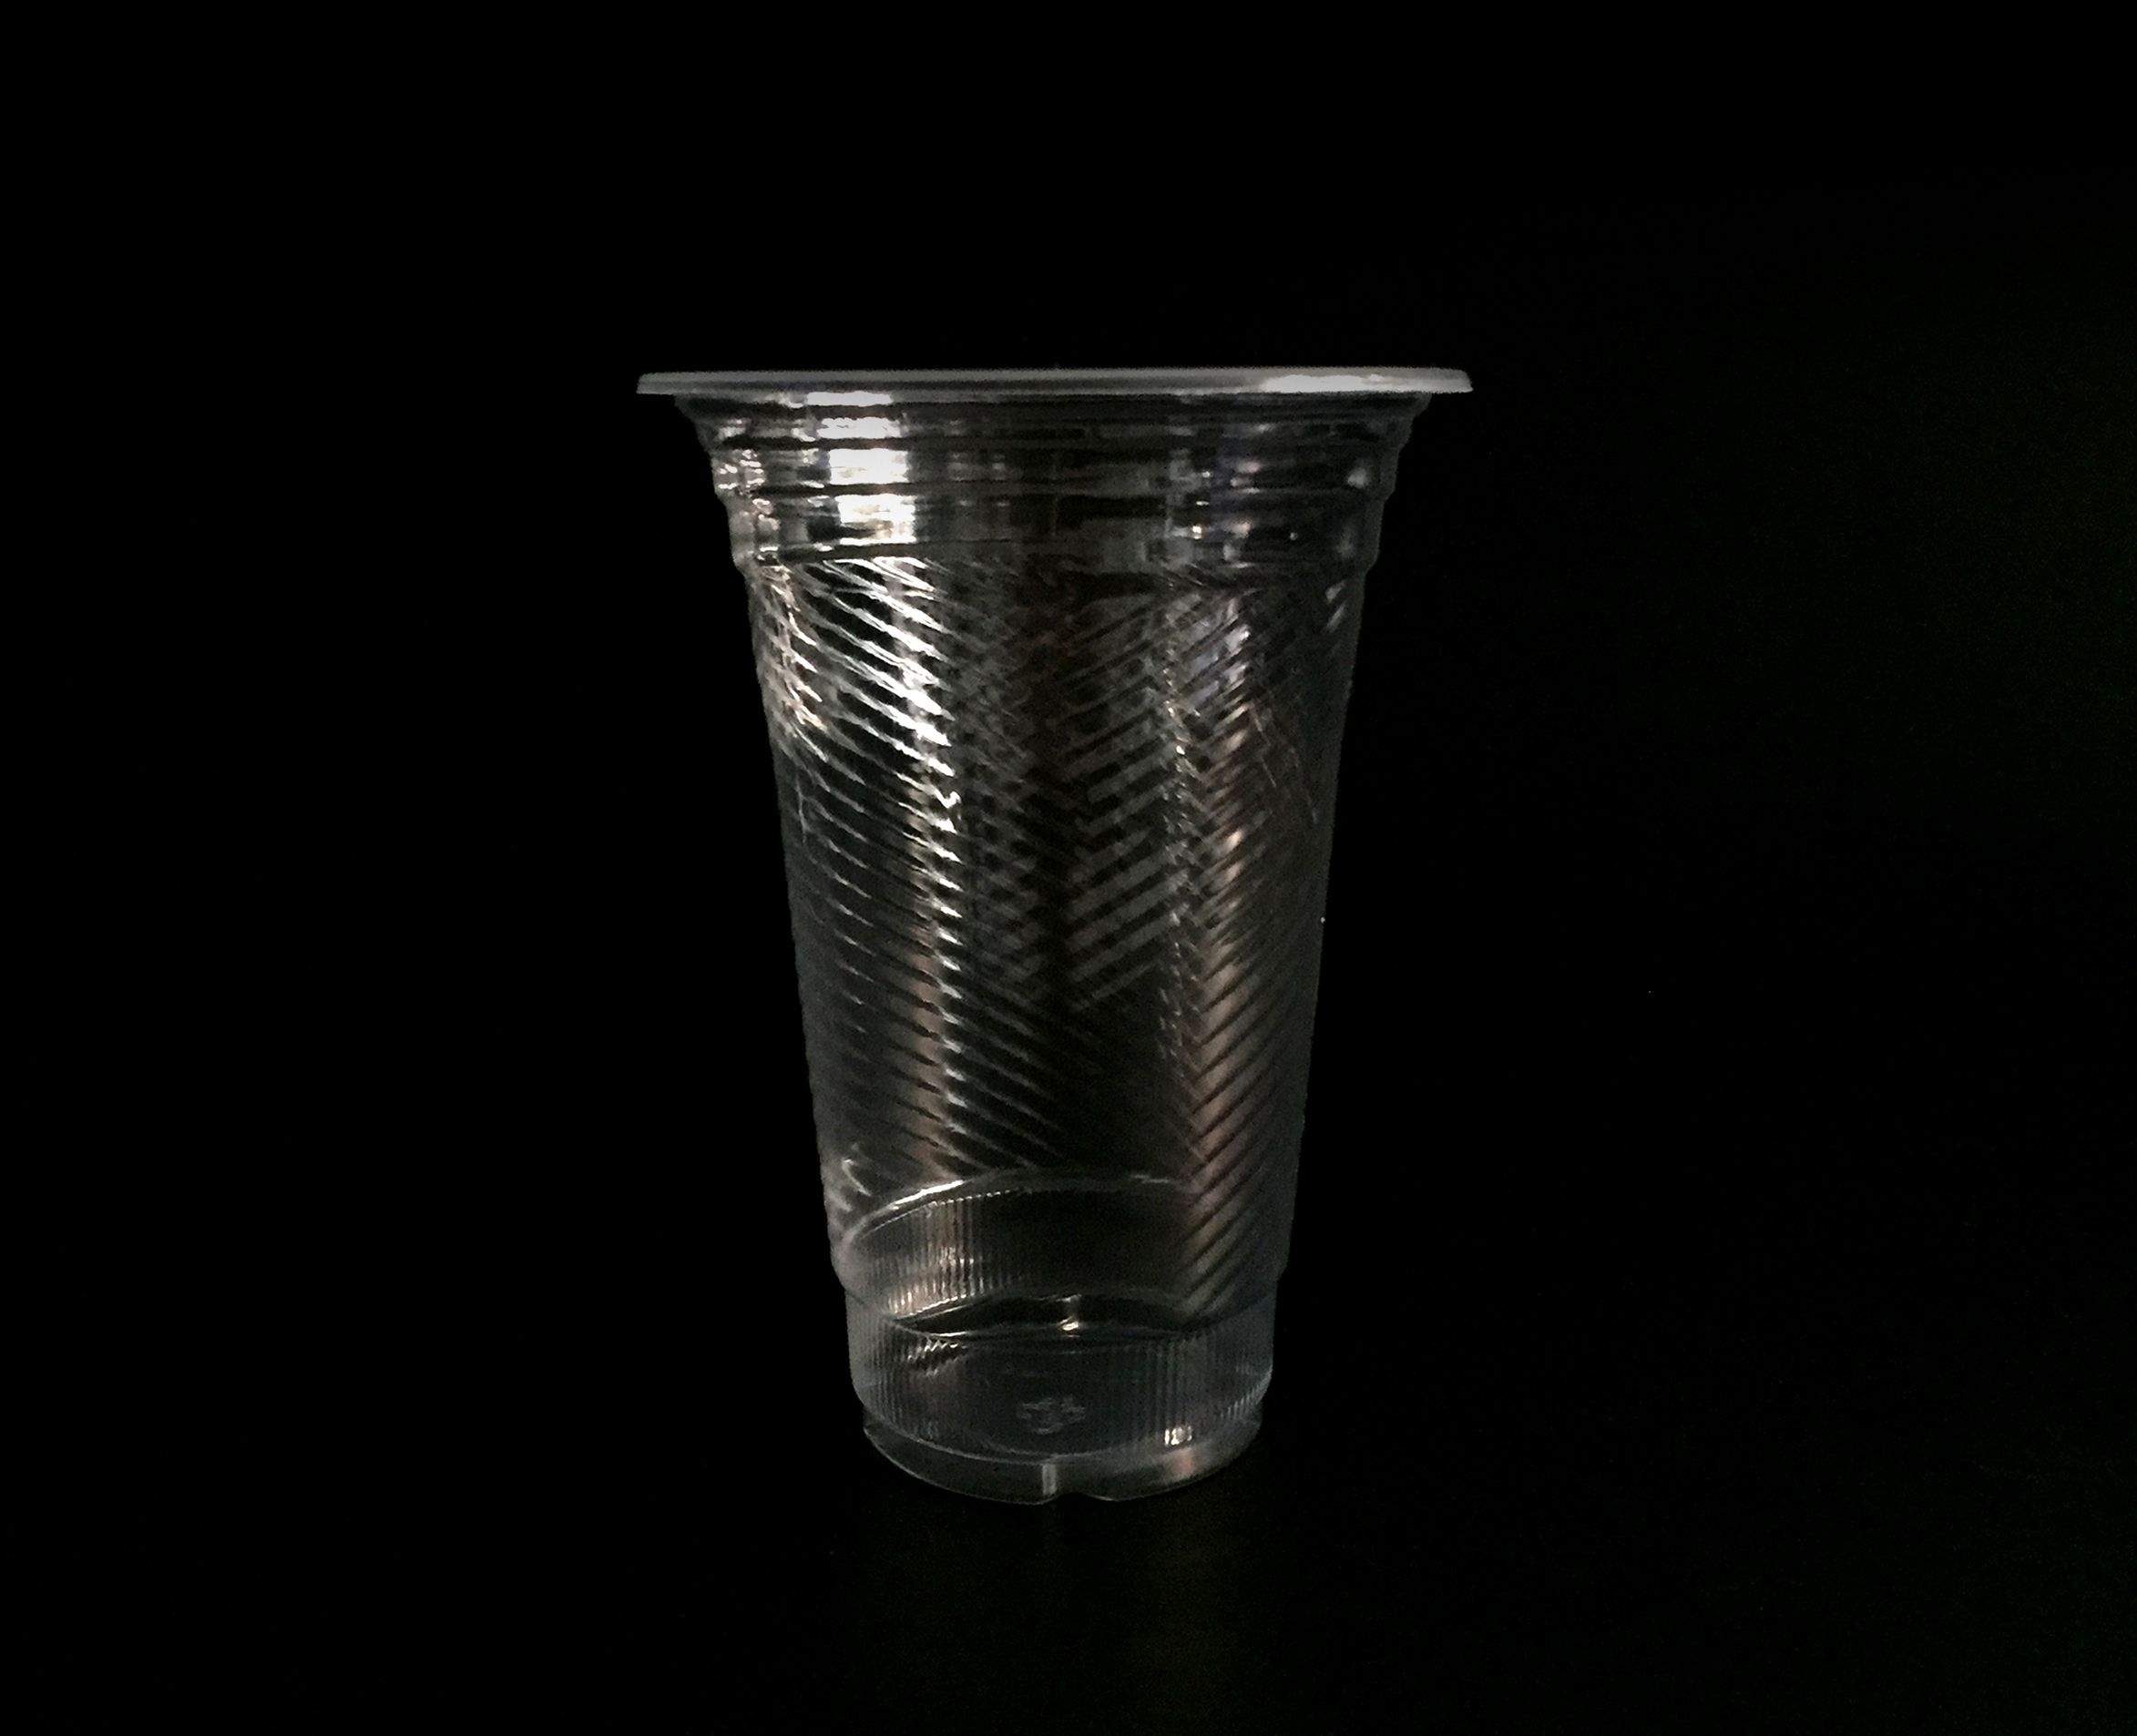plastic_bottle: (620, 317, 1481, 1536)
